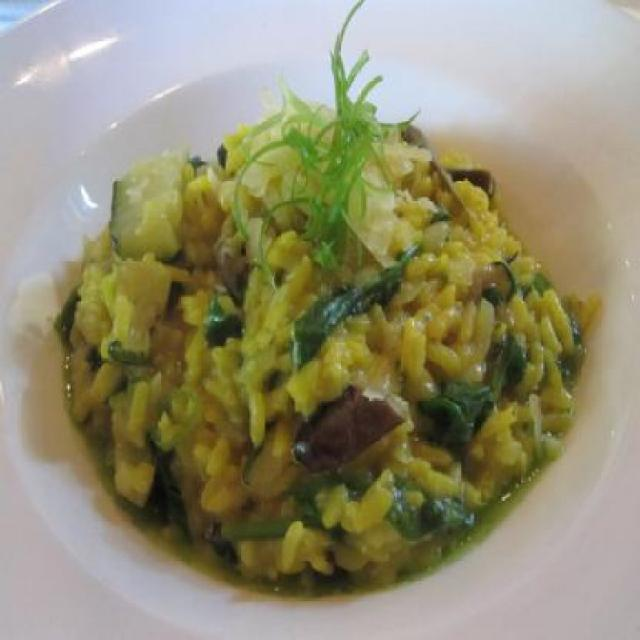Risotto: (52, 105, 577, 558)
